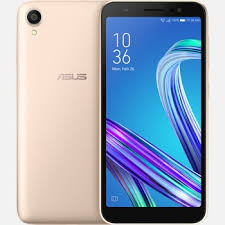asus: (97, 1, 207, 223), (13, 1, 105, 224)
